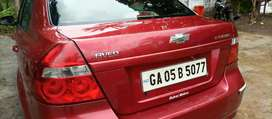GA05B5077: (141, 57, 208, 92)
